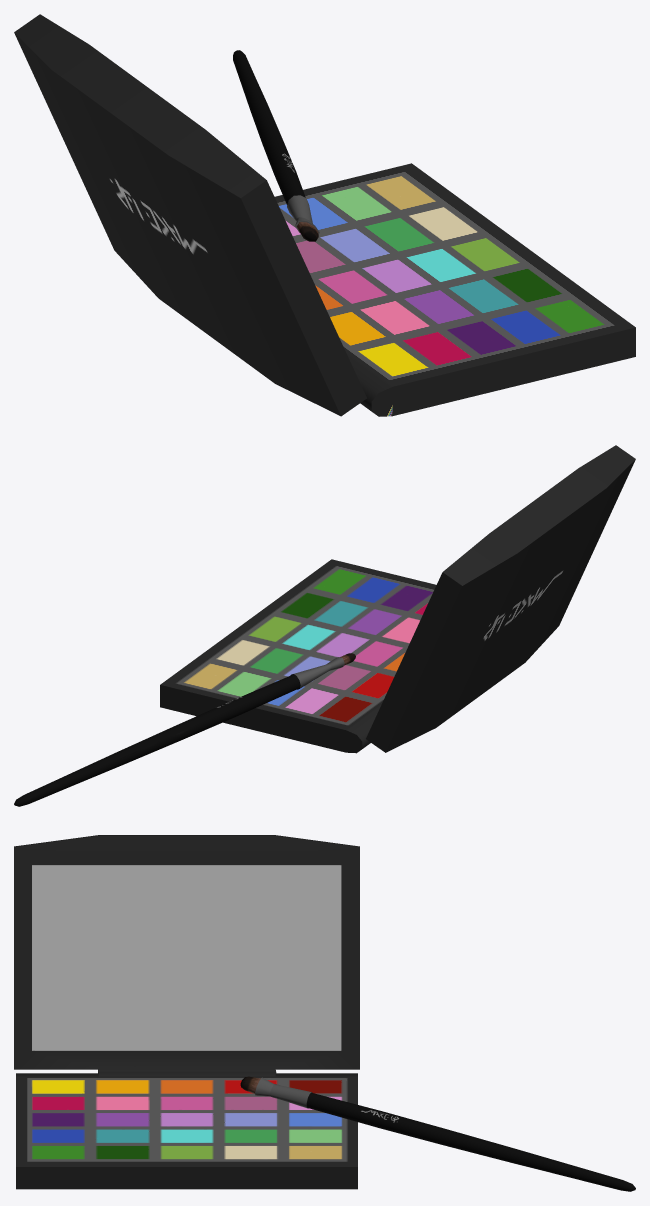
Rendered from sceneDraco2.gltf.
3 renders of one model, top to bottom at view 1: azimuth 30°, elevation 25°; view 2: azimuth 150°, elevation 25°; view 3: azimuth 270°, elevation 25°, orthographic. The views are drawn at different scales.
Visible parts, largest first — view 1: Brush; view 2: Brush; view 3: Brush.
Part boxes in pixels (box(x1,y1,x2,y2)): Brush: box(14, 14, 635, 416); Brush: box(14, 445, 635, 806); Brush: box(14, 835, 635, 1191).
Bounding box in the file's own units: 15.09 × 9.53 × 25.17.
Materials: 2 (2 with a texture image).
